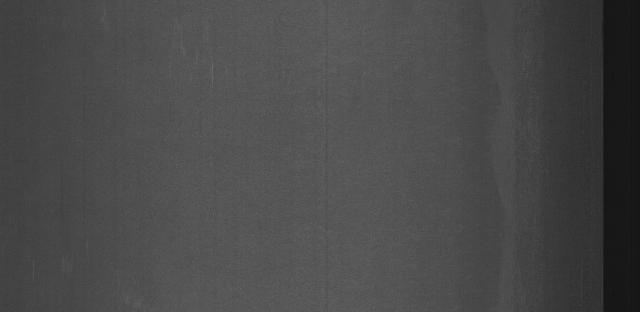silk_spot: (141, 27, 254, 97)
